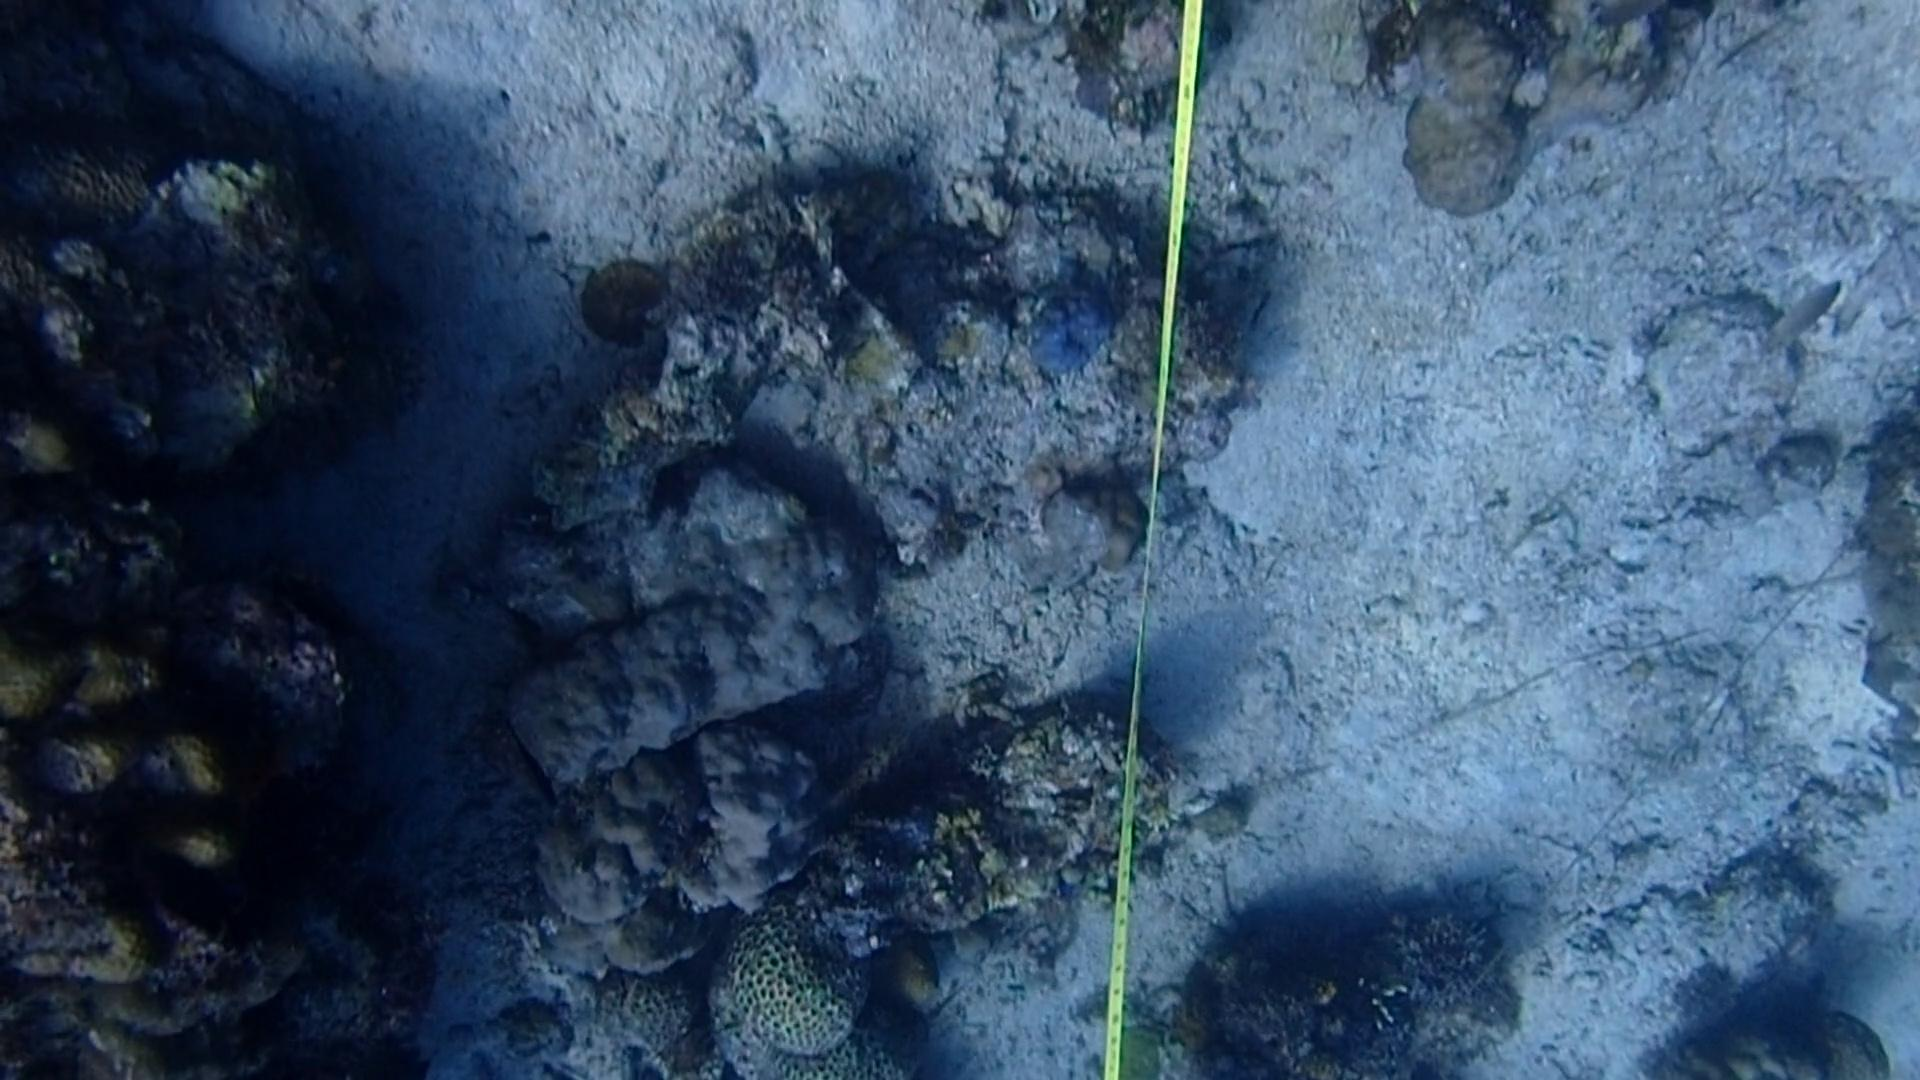Dark Fish: (150, 845, 281, 947), (80, 669, 244, 749), (136, 111, 260, 187), (502, 708, 564, 822)
Light Fish: (1755, 270, 1844, 355)
